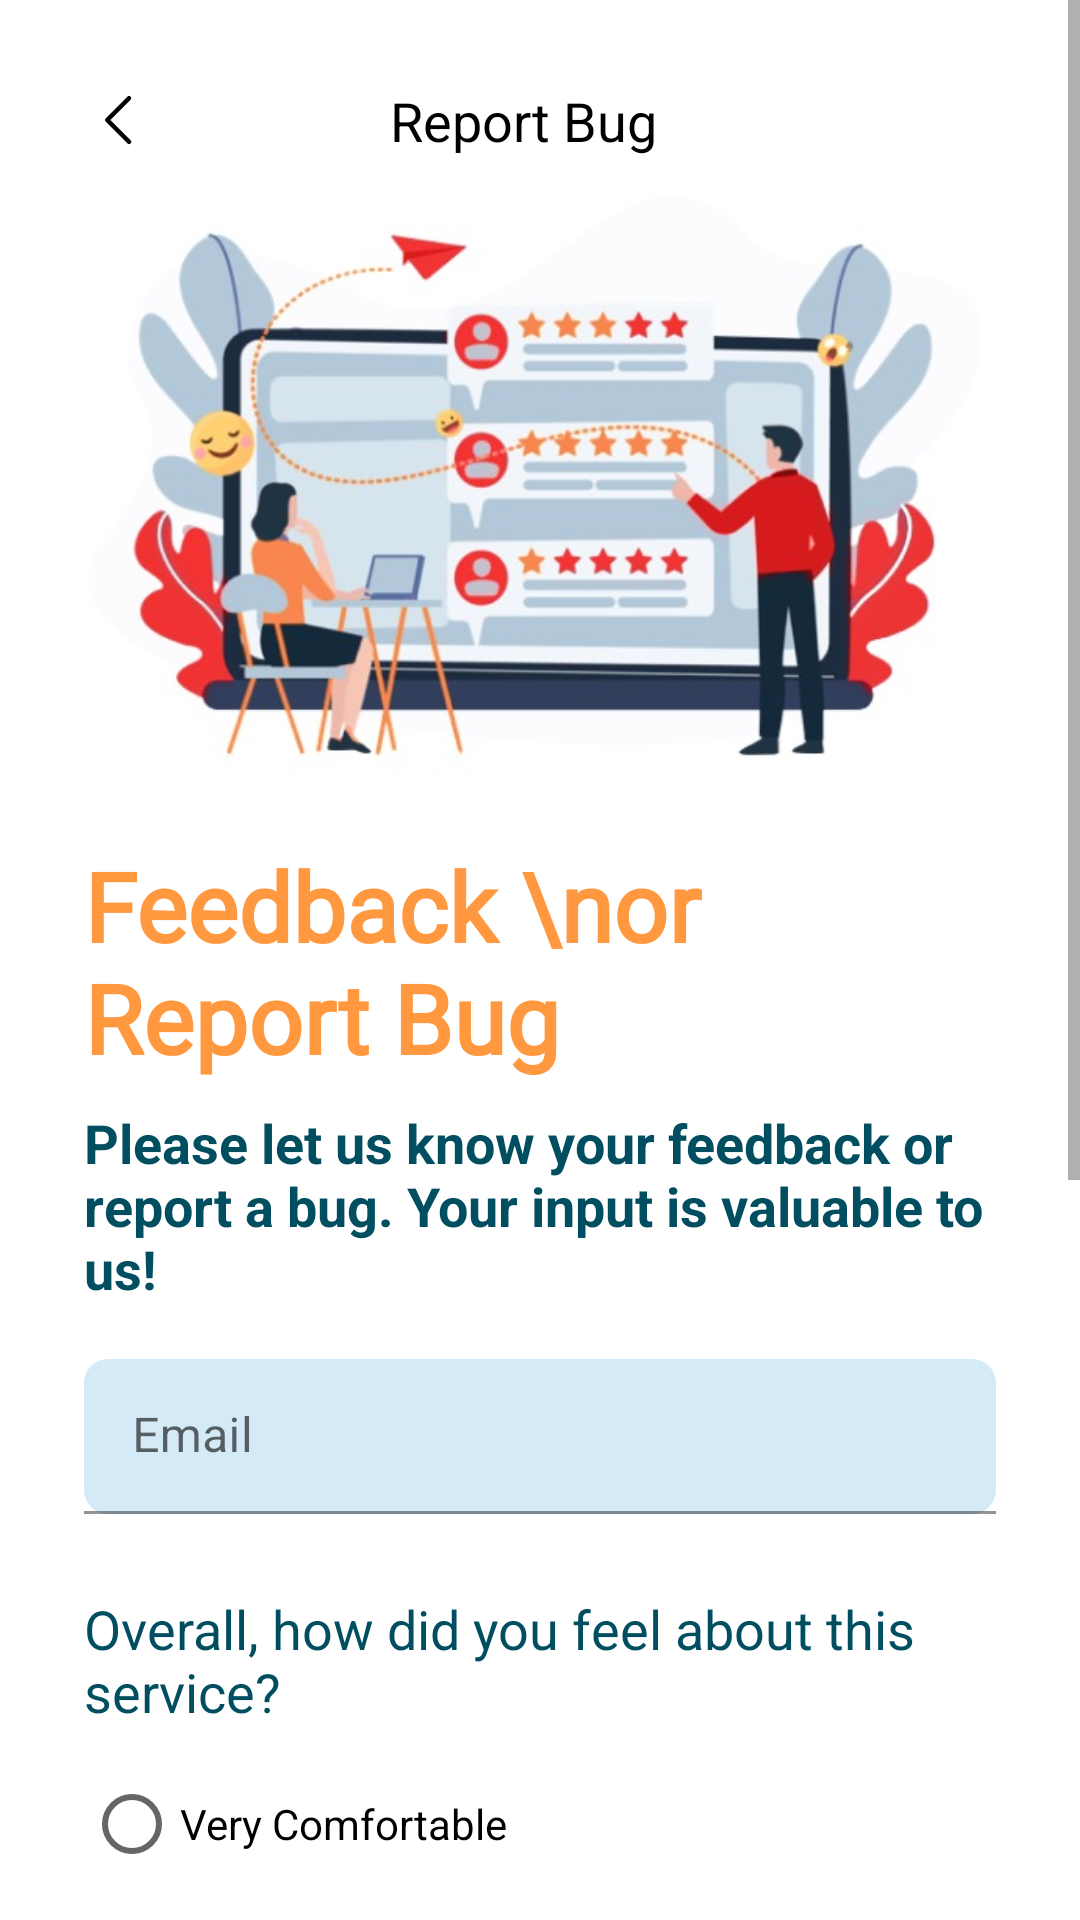

Screen size 1080*1920. Icon name, then its center in pixels as (x,y):
Back: (118,120)
